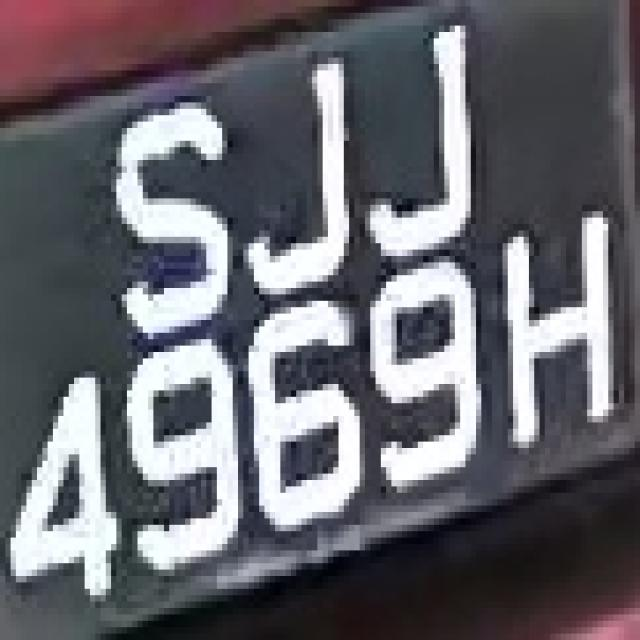4: (0, 346, 132, 608)
6: (217, 301, 375, 512)
9: (122, 332, 270, 602), (370, 250, 476, 512)
H: (498, 179, 630, 474)
J: (354, 13, 492, 269), (238, 51, 360, 301)
S: (95, 90, 244, 339)
